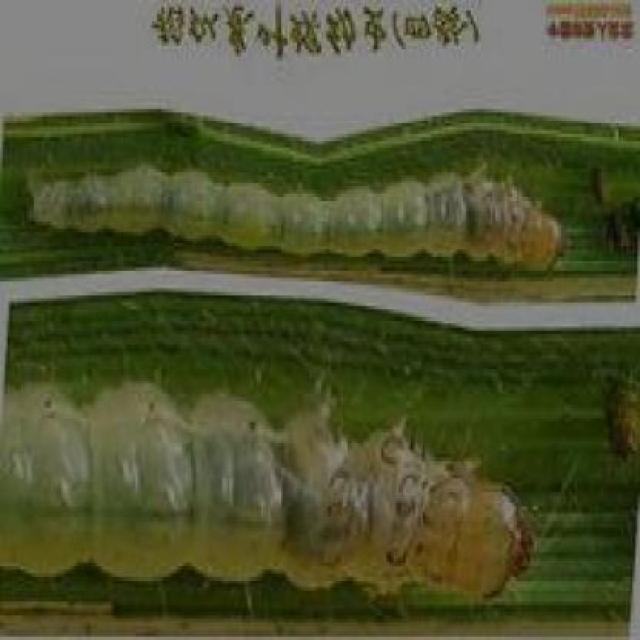leaf-folder: (31, 337, 544, 605), (16, 142, 575, 282)
